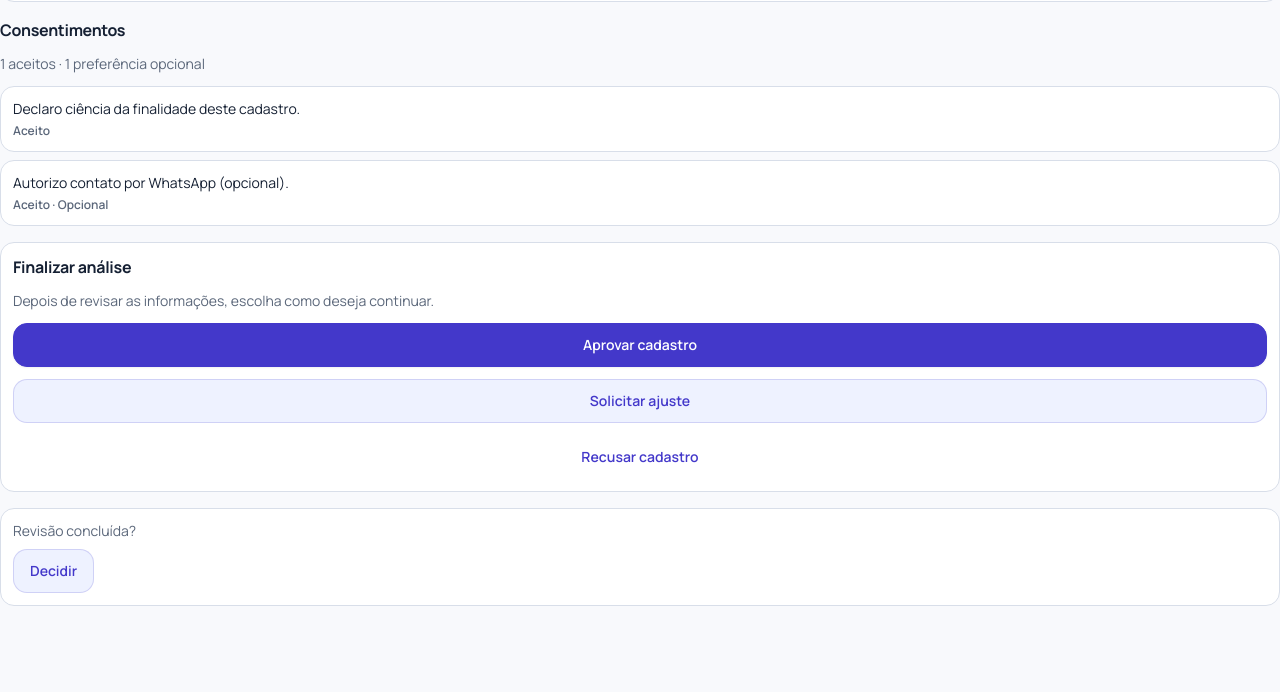
Test case: request changes — error visibility and share actions › closes the sheet, confirms success, and offers WhatsApp/copy after a successful request
(page scrolled)
Click the button "Solicitar ajuste".
click(640, 401)  # box [13,379,1267,423]
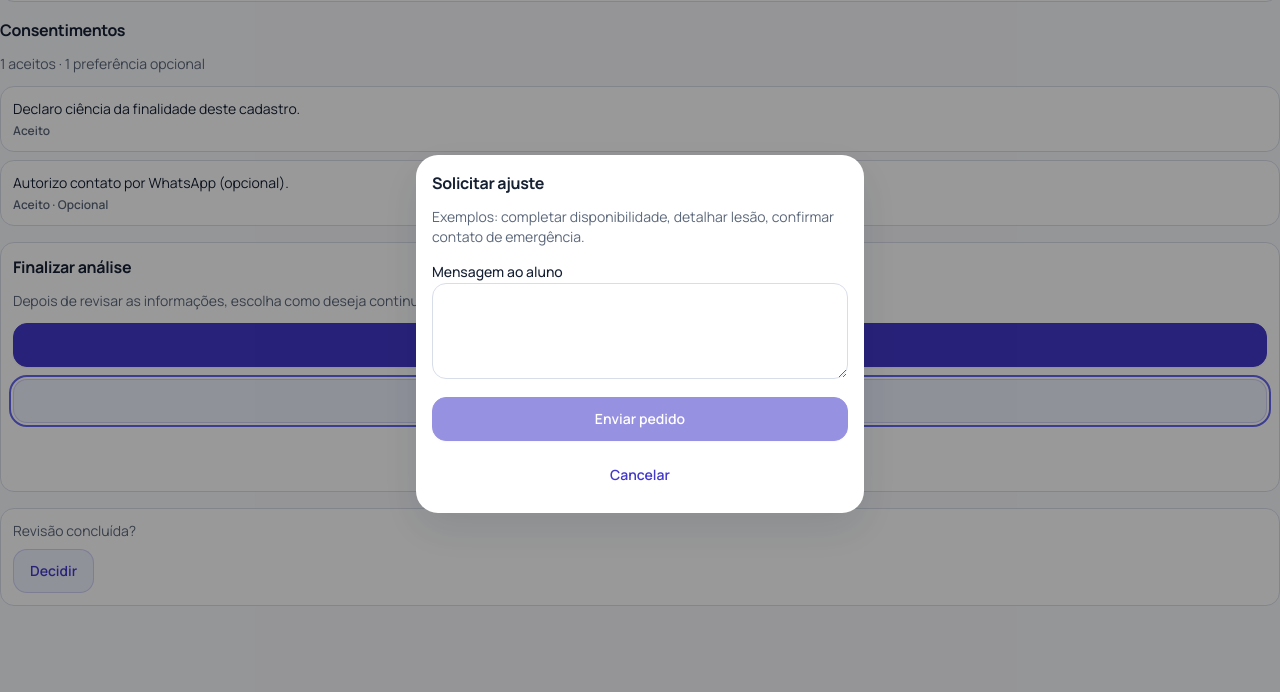
Type "Indique os objetivos secundários." into the text box labelled "Mensagem ao aluno".
click(640, 331); type("Indique os objetivos secundários.")  # box [432,283,848,379]
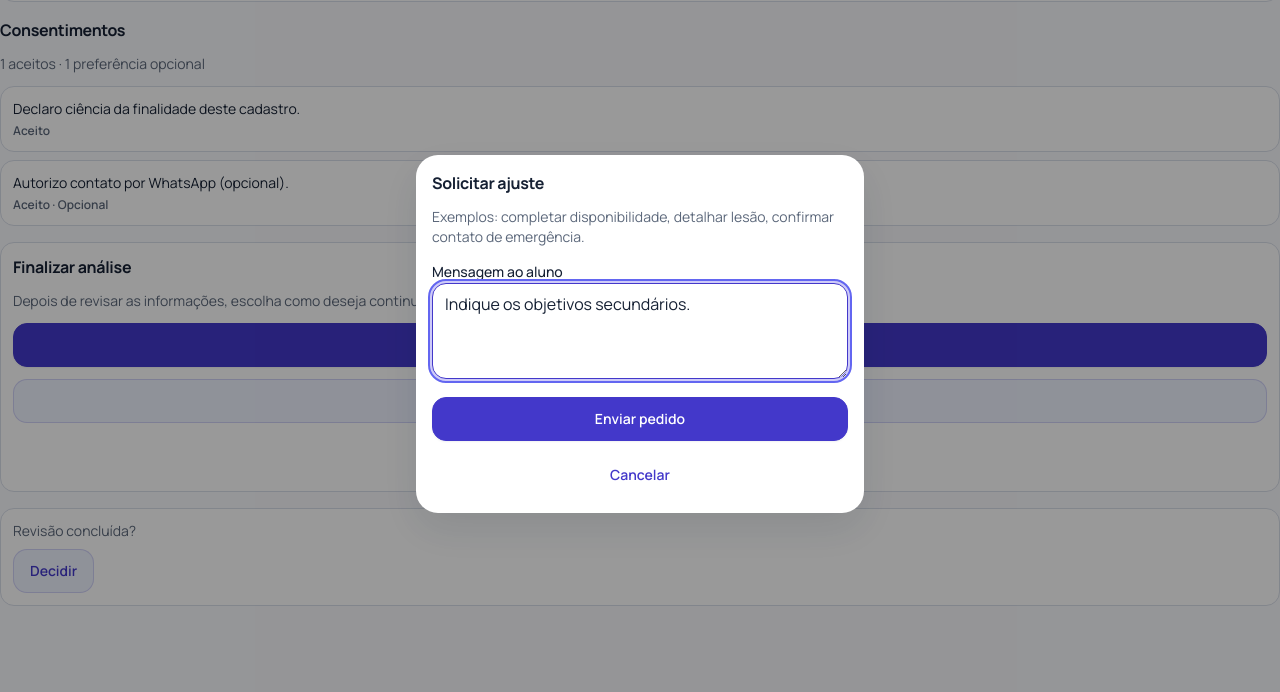
Click the button "Enviar pedido".
click(640, 419)  # box [432,397,848,441]
(page scrolled)
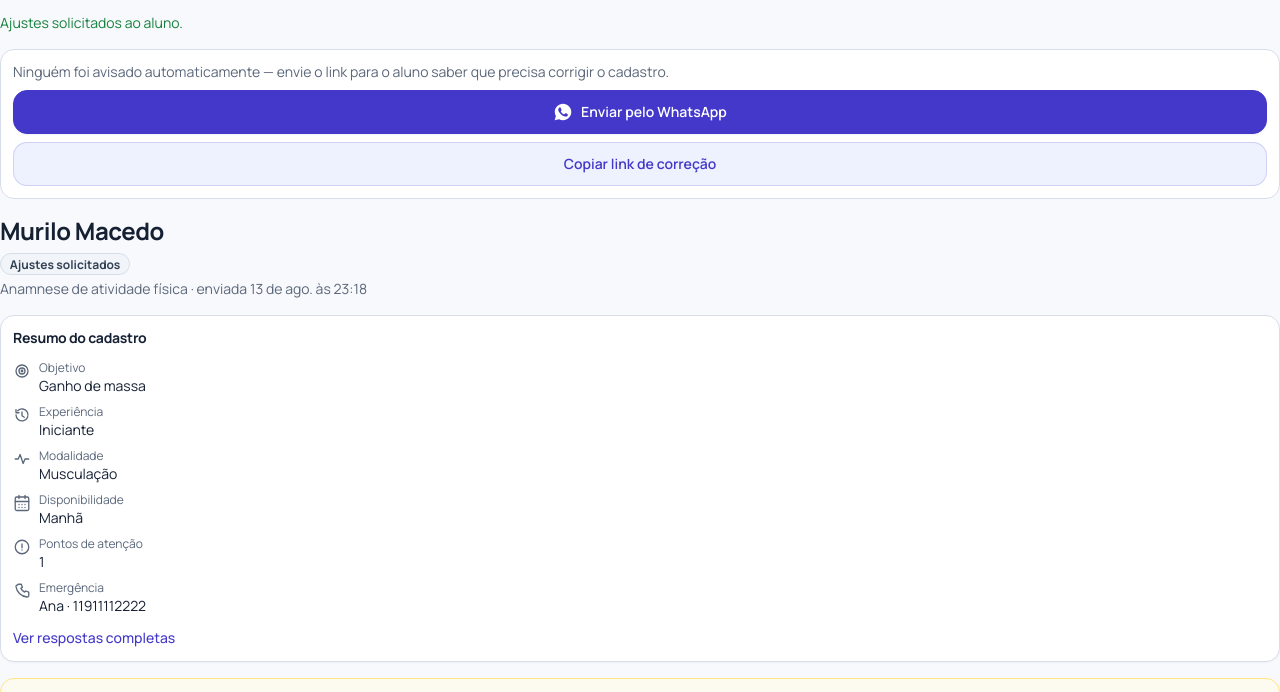
Expected: the text "Ajustes solicitados ao aluno." is shown, [0,13,183,32]
Expected: the button "Enviar pelo WhatsApp" is shown, [13,90,1267,134]
Expected: the button "Copiar link de correção" is shown, [13,142,1267,186]
